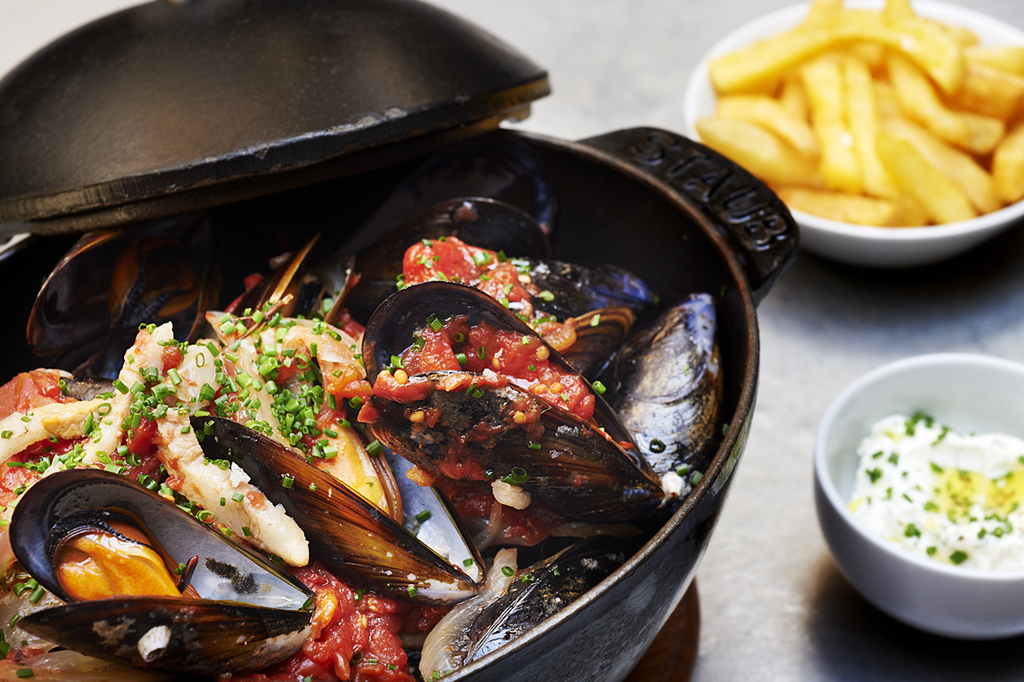French fries: (695, 0, 1023, 228)
